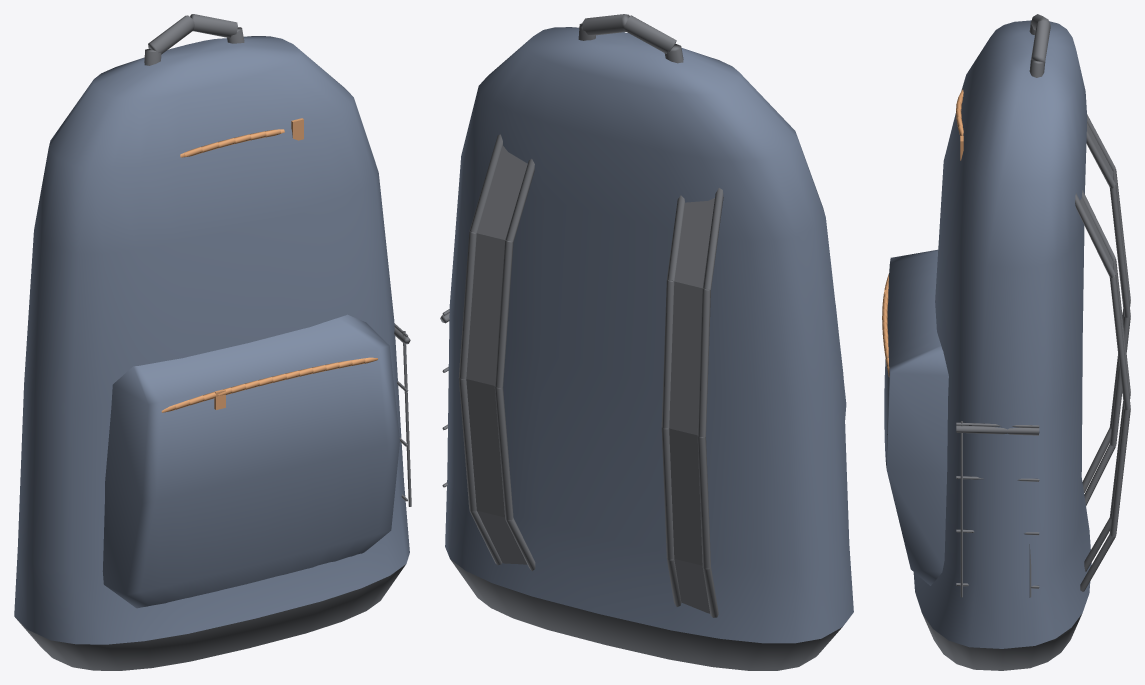
The model's file is campus-backpack-v2.glb.
3 views of the same model, side by side, from view 1: azimuth 30°, elevation 25°; view 2: azimuth 150°, elevation 25°; view 3: azimuth 270°, elevation 25° (orthographic). The views are drawn at different scales.
Parts seen in each view (by area): view 1: oak-desk-chair; view 2: oak-desk-chair; view 3: oak-desk-chair.
Boxes of the visible parts, box(x1,y1,x2,y2) form: oak-desk-chair: box(14, 14, 411, 670); oak-desk-chair: box(440, 14, 853, 670); oak-desk-chair: box(882, 14, 1130, 670).
Bounding box in the file's own units: 0.3017 × 0.46 × 0.18.
